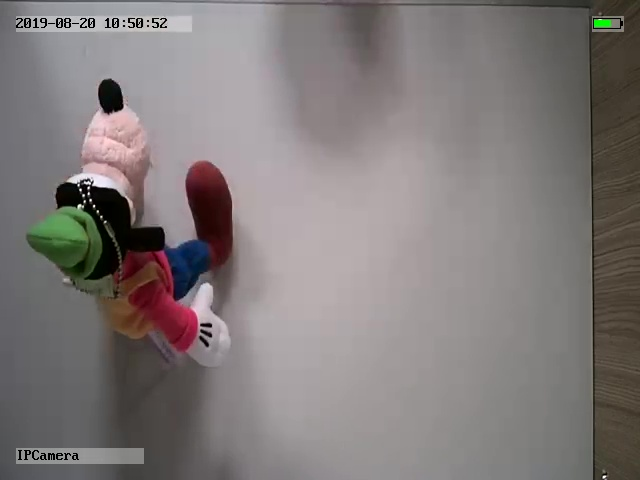goofy: (27, 77, 234, 368)
